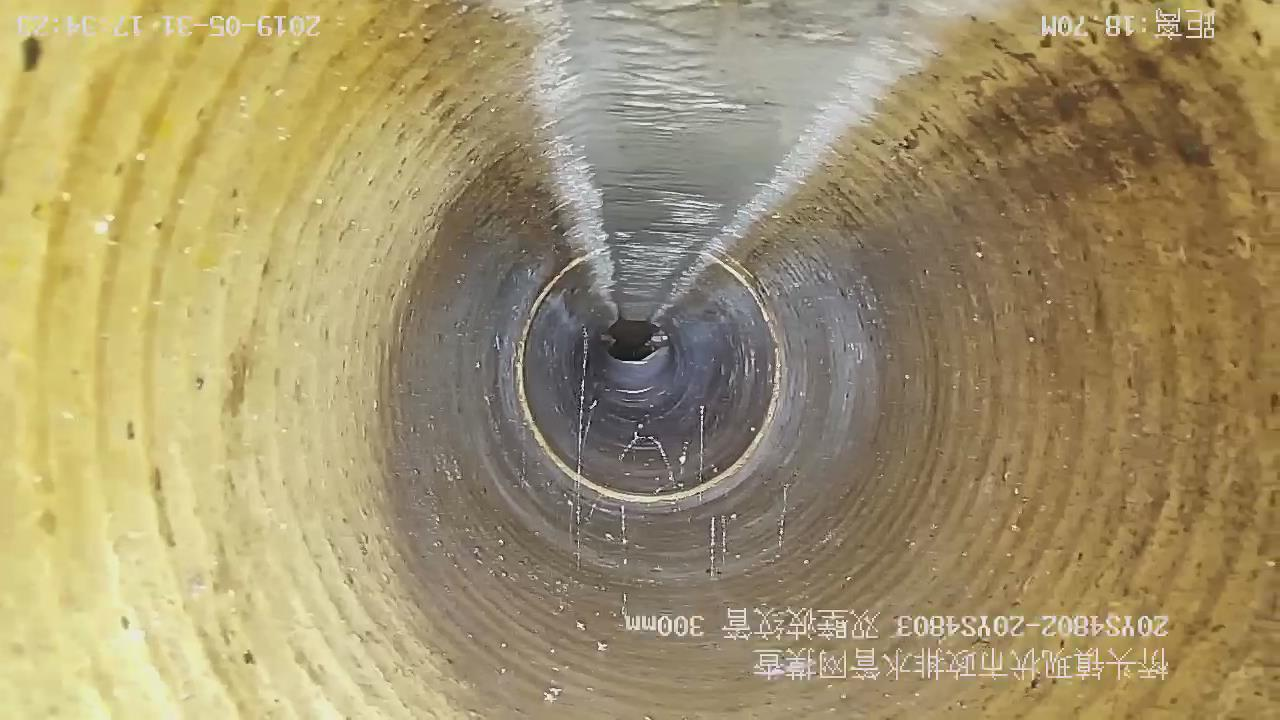CKTJ: (515, 259, 783, 503)
